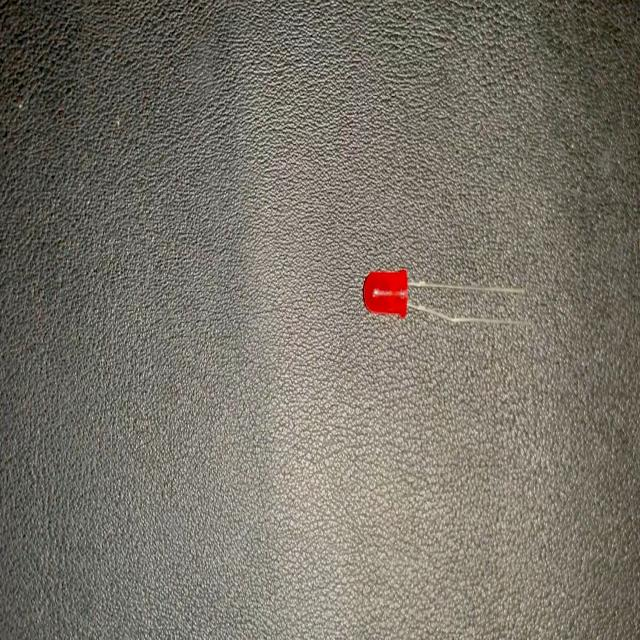LED: (363, 267, 526, 336)
